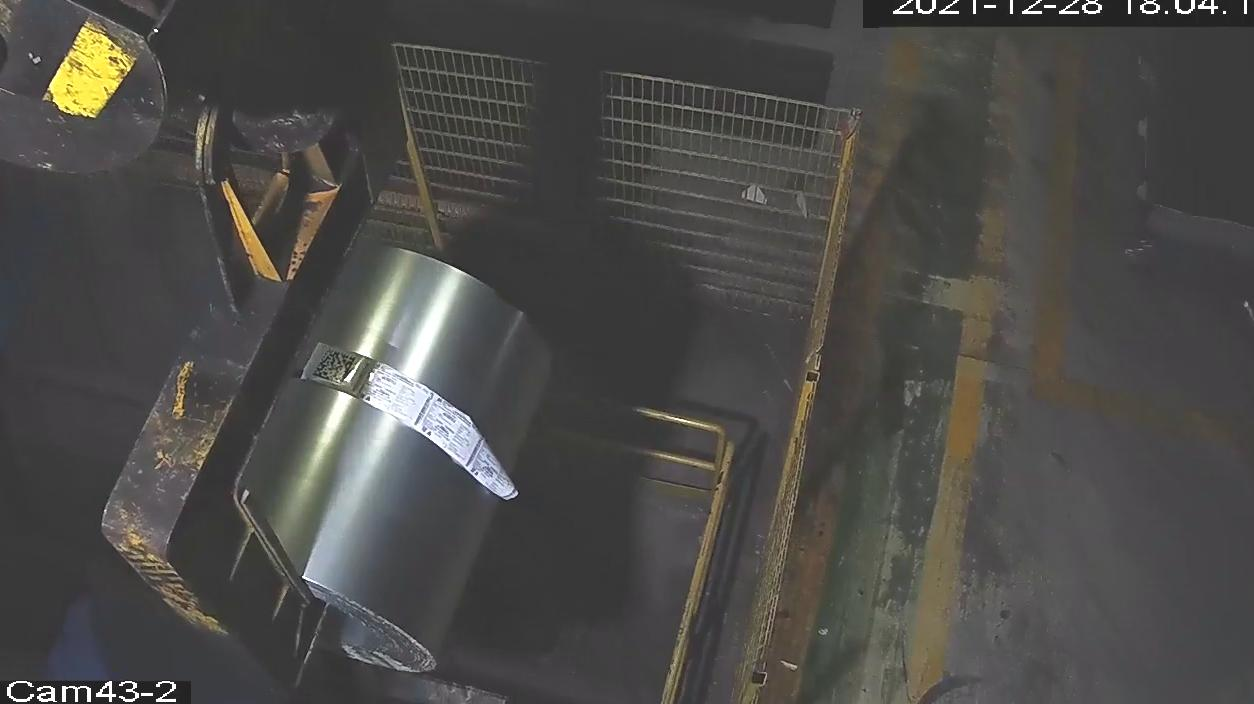data matrix: (311, 346, 359, 388)
